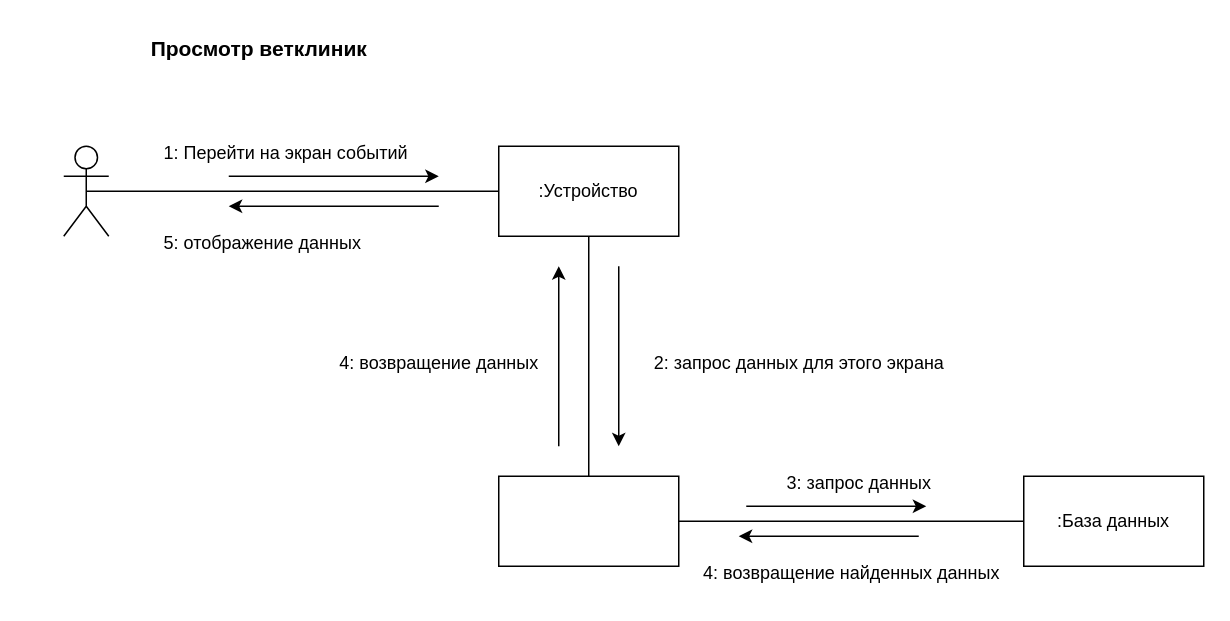
Image size: 1230x621. Some labels were removed from this diagram. Each missing label, with the centre of its shape:
":Пользователь" goes at (85,190).
":Сервер" goes at (588,520).
